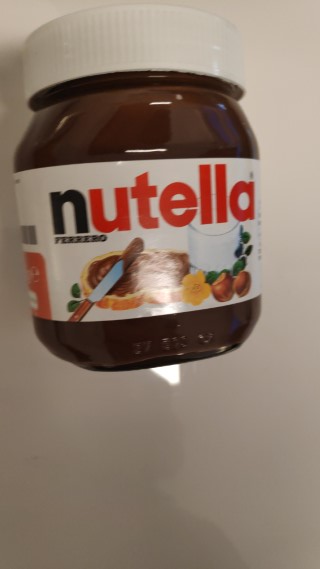nutella: (10, 1, 266, 373)
